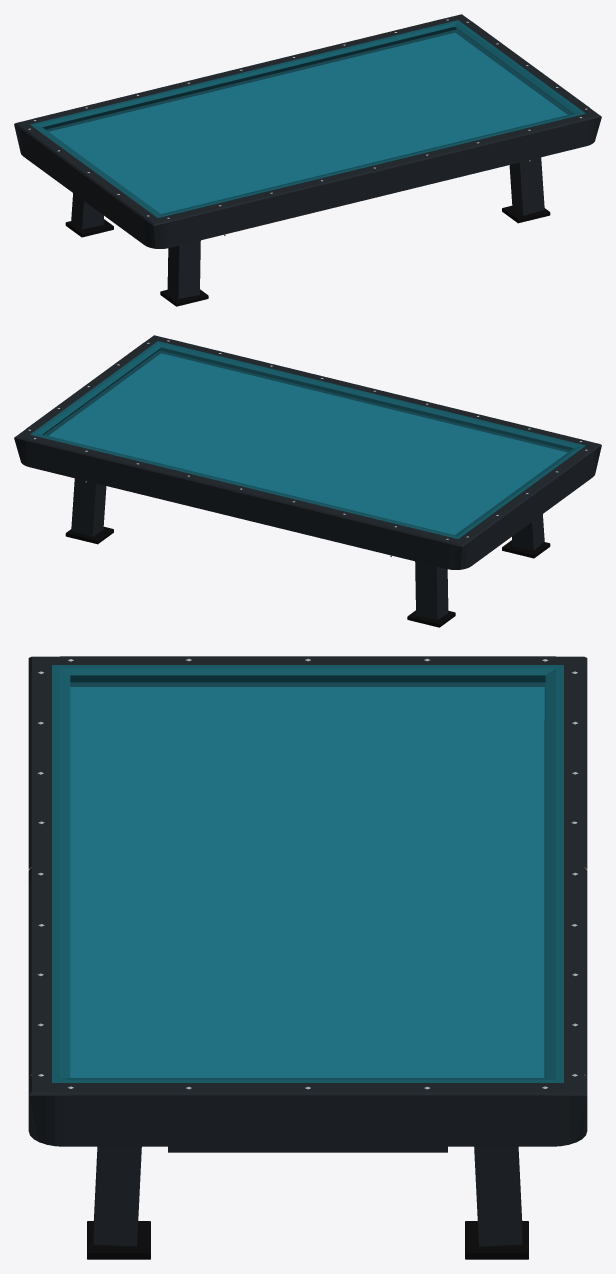
Rendered from table-threecushion-10-american-graphite.glb.
3 renders of one model, top to bottom at view 1: azimuth 30°, elevation 25°; view 2: azimuth 150°, elevation 25°; view 3: azimuth 270°, elevation 25°, orthographic. The views are drawn at different scales.
Visible parts, largest first — view 1: table-threecushion-10-american-graphite, break-builder-table-support; view 2: table-threecushion-10-american-graphite, break-builder-table-support; view 3: table-threecushion-10-american-graphite, break-builder-table-support.
Part boxes in pixels (bbox=[...]): table-threecushion-10-american-graphite: bbox=[14, 14, 601, 248]; break-builder-table-support: bbox=[65, 157, 550, 306]; table-threecushion-10-american-graphite: bbox=[14, 335, 601, 569]; break-builder-table-support: bbox=[65, 478, 550, 627]; table-threecushion-10-american-graphite: bbox=[28, 656, 587, 1146]; break-builder-table-support: bbox=[87, 1146, 528, 1259].
Bounding box in the file's own units: 3.28 × 0.7156 × 1.77.
